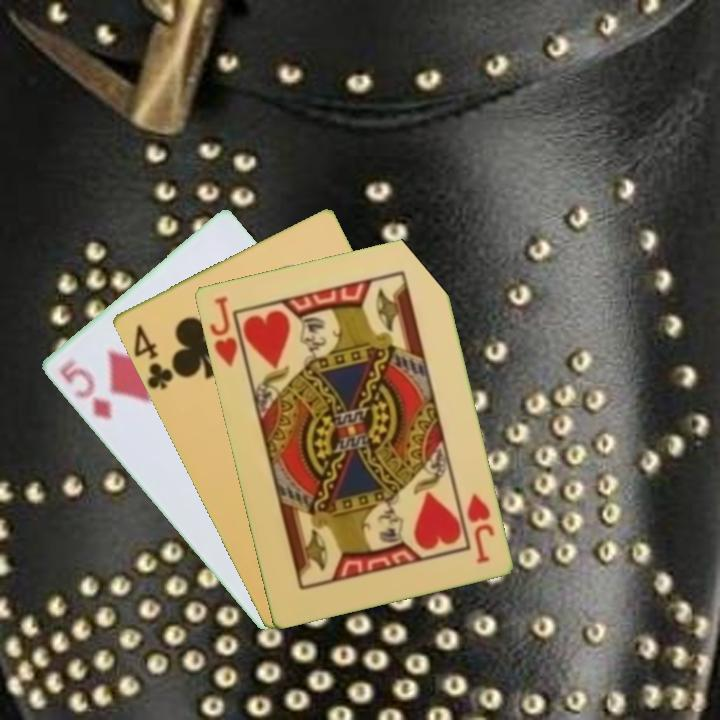4c: (129, 321, 176, 393)
5d: (55, 356, 115, 422)
Jh: (205, 292, 240, 370), (462, 489, 497, 567)
